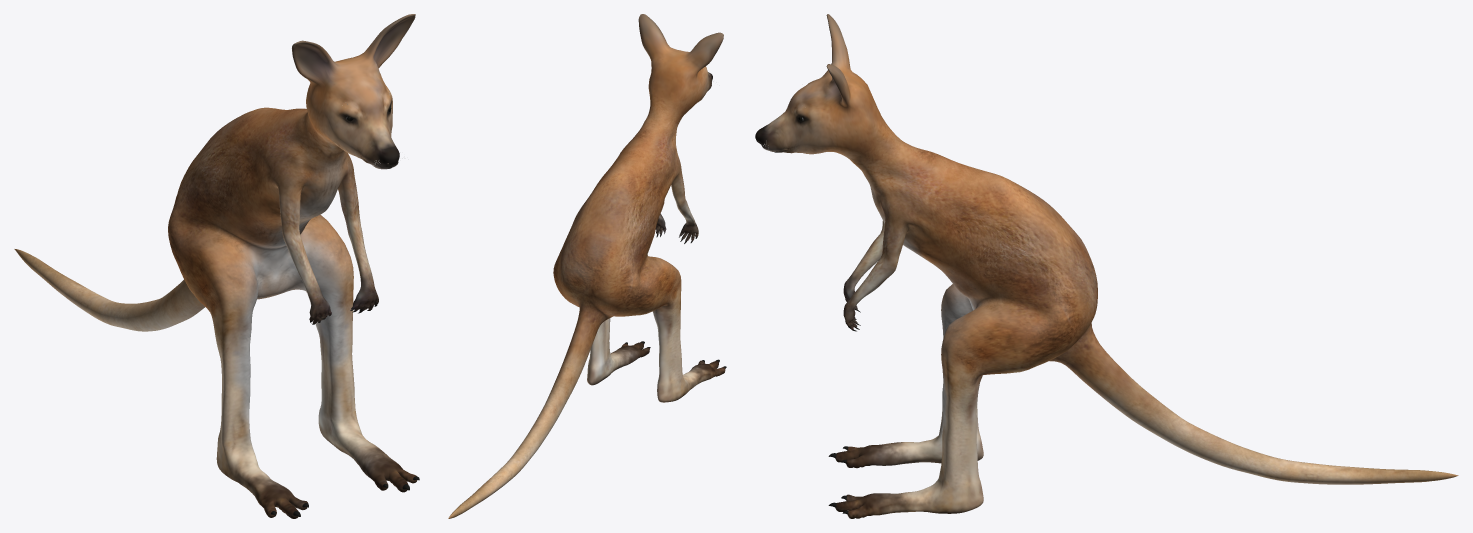
File: kangarooBaby.gltf
3 views of the same model, side by side, from view 1: azimuth 30°, elevation 25°; view 2: azimuth 150°, elevation 25°; view 3: azimuth 270°, elevation 25° (orthographic). The views are drawn at different scales.
Visible parts, largest first — view 1: Kangaroo_Baby_42213.Shape; view 2: Kangaroo_Baby_42213.Shape; view 3: Kangaroo_Baby_42213.Shape.
Part boxes in pixels (x1=…): Kangaroo_Baby_42213.Shape: x1=14, y1=14, x2=419, y2=518; Kangaroo_Baby_42213.Shape: x1=448, y1=14, x2=726, y2=518; Kangaroo_Baby_42213.Shape: x1=755, y1=14, x2=1458, y2=518.
Bounding box in the file's own units: 0.2187 × 0.6789 × 0.969.
Materials: 5 (4 with a texture image).
